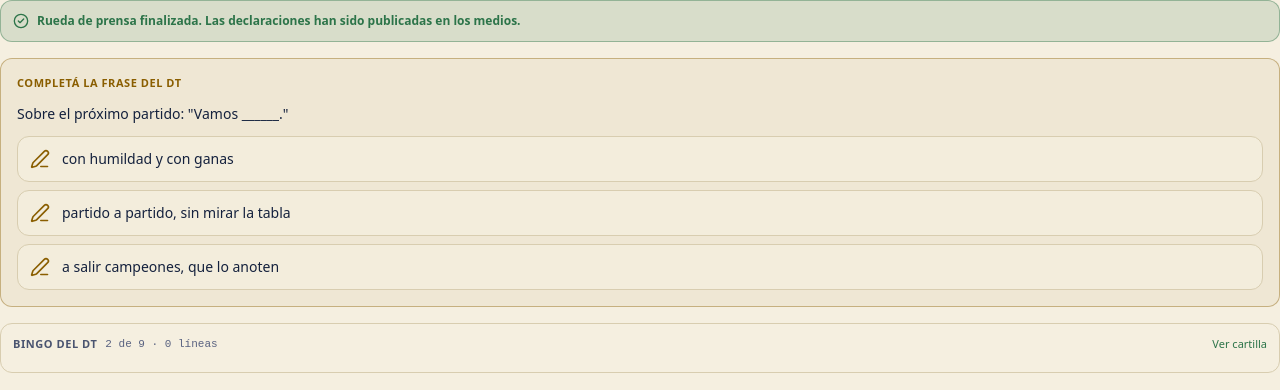
Test: sala de prensa relámpago › la frase de manual tacha su cliché y avisa la línea completada
Click the button "partido a partido, sin mirar la tabla": [176, 212] box [17, 190, 1263, 236]
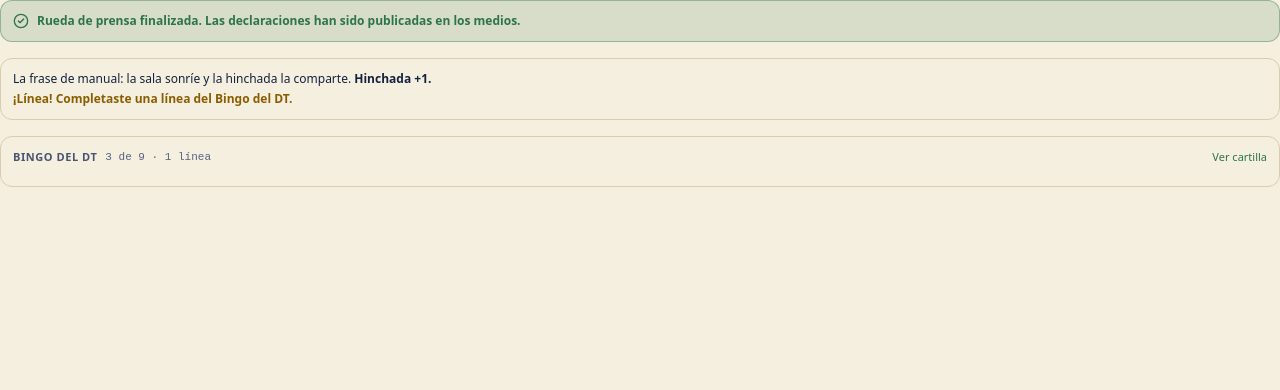
Expected: the text "¡Línea! Completaste una línea del Bingo del DT." is shown, [13, 90, 292, 107]
